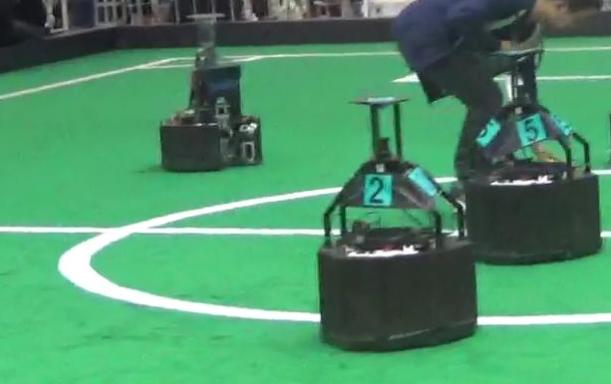robot: (302, 93, 492, 358), (458, 42, 609, 270), (143, 8, 272, 176)
